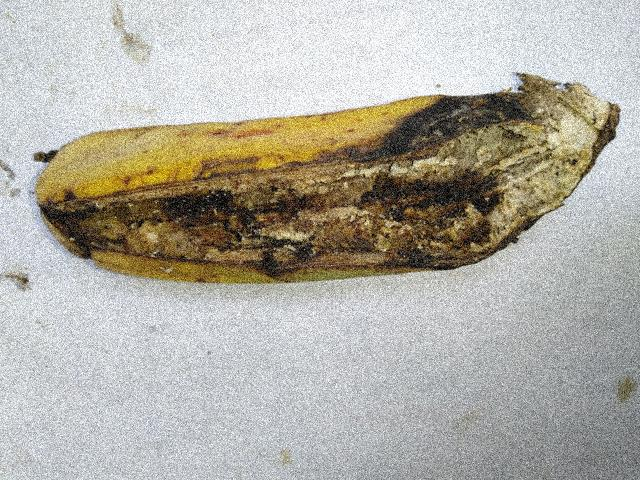rotten: (20, 68, 621, 304)
